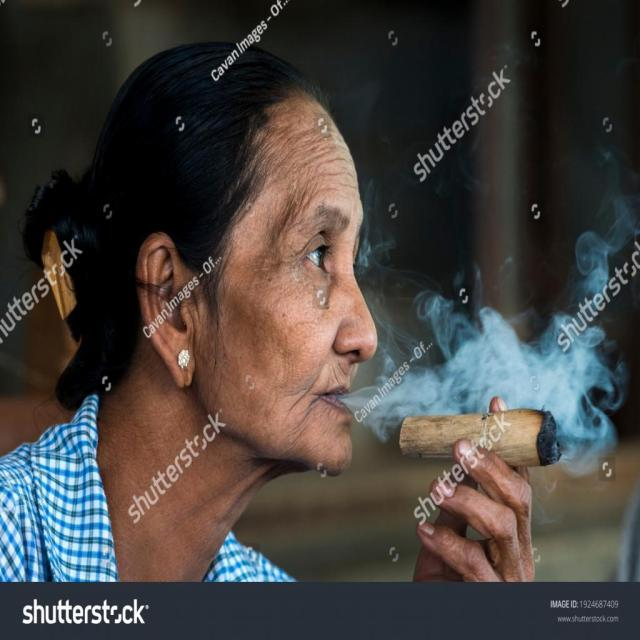smoking: (400, 405, 564, 468)
